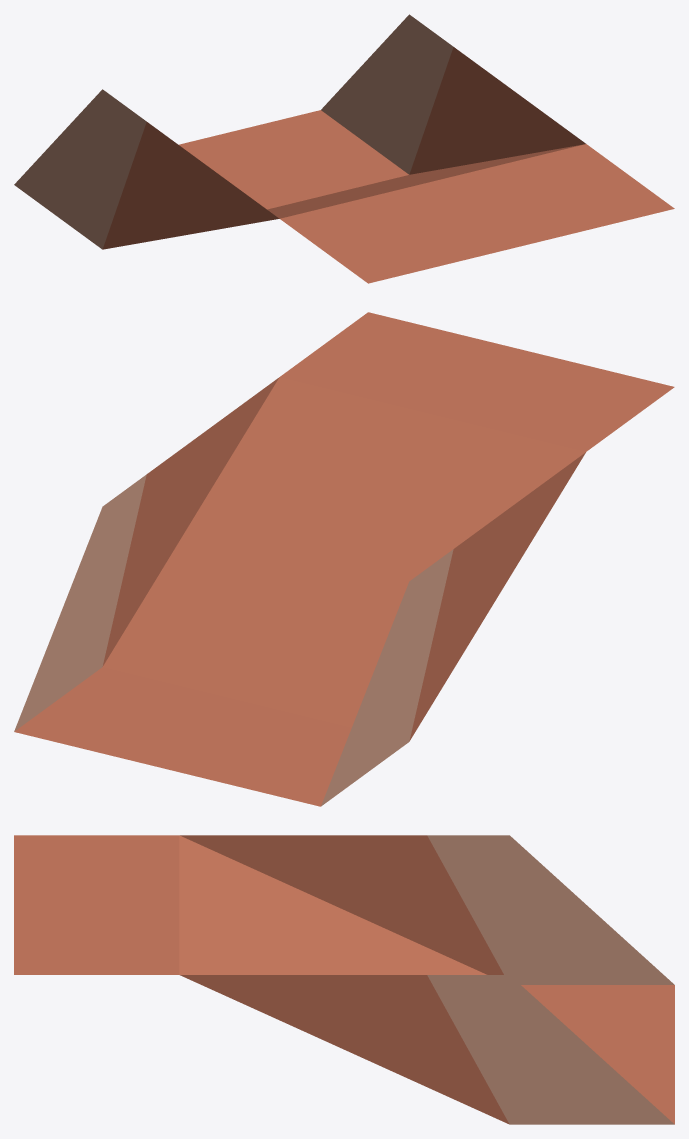
File: terrain_rampLarge_detailed.glb
3 renders of one model, top to bottom at view 1: azimuth 30°, elevation 25°; view 2: azimuth 150°, elevation 25°; view 3: azimuth 270°, elevation 25°, orthographic. The views are drawn at different scales.
Parts seen in each view (by area): view 1: terrain_rampLarge_detailed; view 2: terrain_rampLarge_detailed; view 3: terrain_rampLarge_detailed.
Part boxes in pixels (left/top/right/bottom): terrain_rampLarge_detailed: left=14, top=14, right=674, bottom=283; terrain_rampLarge_detailed: left=14, top=312, right=674, bottom=806; terrain_rampLarge_detailed: left=14, top=835, right=674, bottom=1124.
Size of the model in its own units: 1.4 by 0.702 by 2.81.
